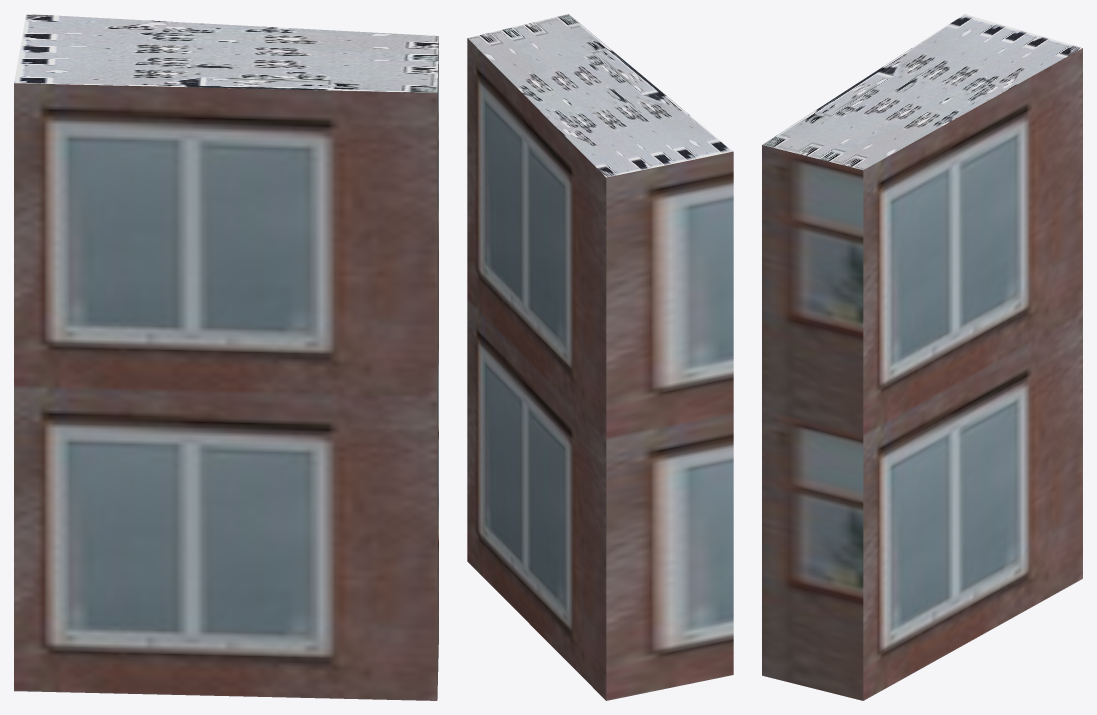
The model's file is ResTex__4902.fbx.
The picture shows the model from 3 angles, left to right: view 1: azimuth 30°, elevation 25°; view 2: azimuth 150°, elevation 25°; view 3: azimuth 270°, elevation 25°; orthographic projection. The views are drawn at different scales.
Parts seen in each view (by area): view 1: CityEngineMaterial_19_m, CityEngineMaterial_15_m; view 2: CityEngineMaterial_19_m, CityEngineMaterial_15_m; view 3: CityEngineMaterial_19_m, CityEngineMaterial_15_m.
Part boxes in pixels (bbox=[...]): CityEngineMaterial_19_m: bbox=[14, 37, 438, 700]; CityEngineMaterial_15_m: bbox=[14, 14, 438, 92]; CityEngineMaterial_19_m: bbox=[467, 38, 733, 700]; CityEngineMaterial_15_m: bbox=[468, 14, 732, 177]; CityEngineMaterial_19_m: bbox=[762, 48, 1082, 700]; CityEngineMaterial_15_m: bbox=[762, 14, 1082, 170].
Size of the model in its own units: 3.79 by 6 by 3.29.
2 materials, 2 textured.
